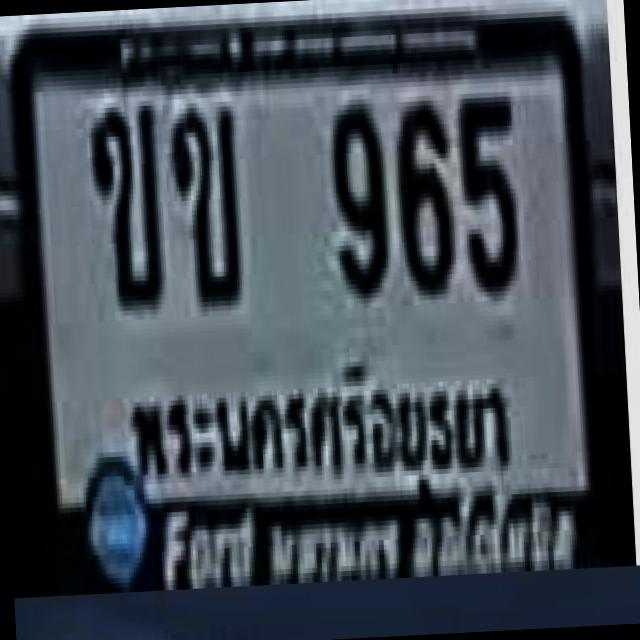license_plate: (4, 9, 614, 596)
